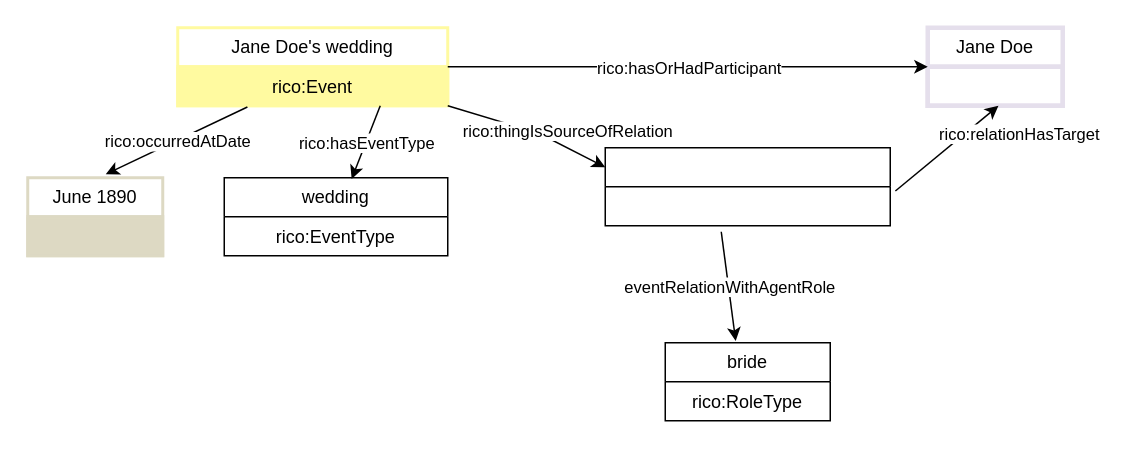
Some shapes in this 1124 by 452 pixel diagram are drawn without their labels. Each missing label, with the centre of its shape:
"rico:Date" belongs at (95,235).
"rico:EventRelation" belongs at (747,186).
"rico:Person" belongs at (994,85).
